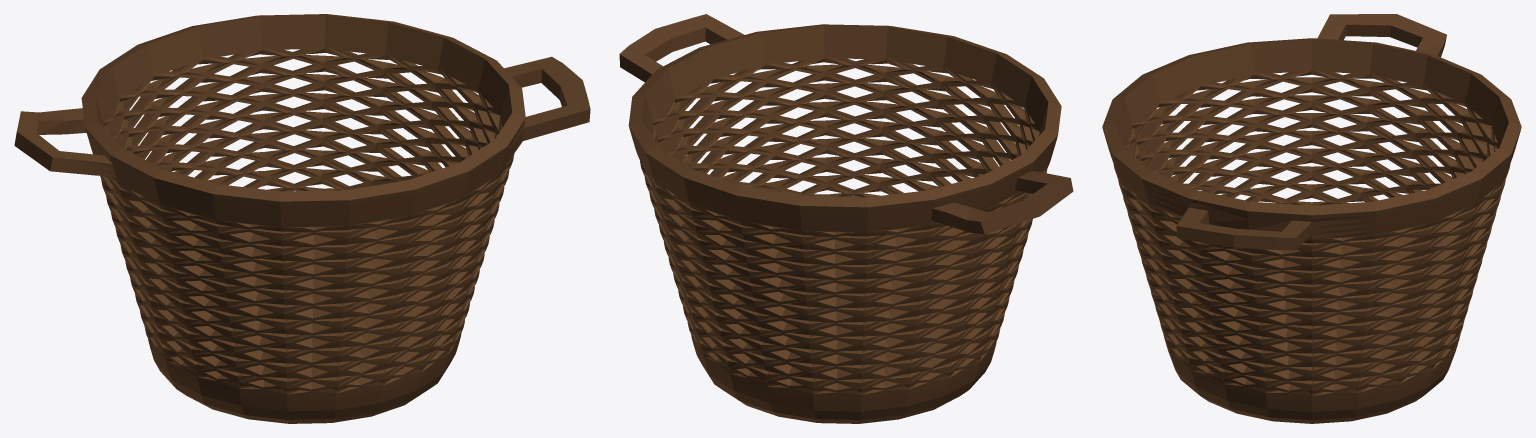
The model's file is Basket1.fbx.
The picture shows the model from 3 angles, left to right: view 1: azimuth 30°, elevation 25°; view 2: azimuth 150°, elevation 25°; view 3: azimuth 270°, elevation 25°; orthographic projection. The views are drawn at different scales.
Visible parts, largest first — view 1: pCylinder1; view 2: pCylinder1; view 3: pCylinder1.
Part boxes in pixels (x1,y1,x2,y2): pCylinder1: (14, 14, 590, 423); pCylinder1: (619, 14, 1073, 423); pCylinder1: (1102, 14, 1521, 423).
Size of the model in its own units: 21.37 by 11.22 by 17.03.
